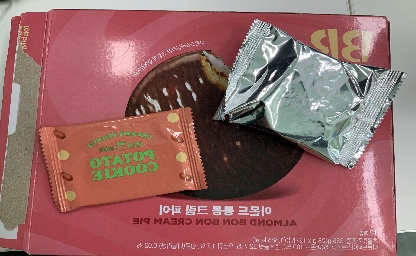br: (211, 17, 408, 172)
pota: (36, 103, 210, 217)
